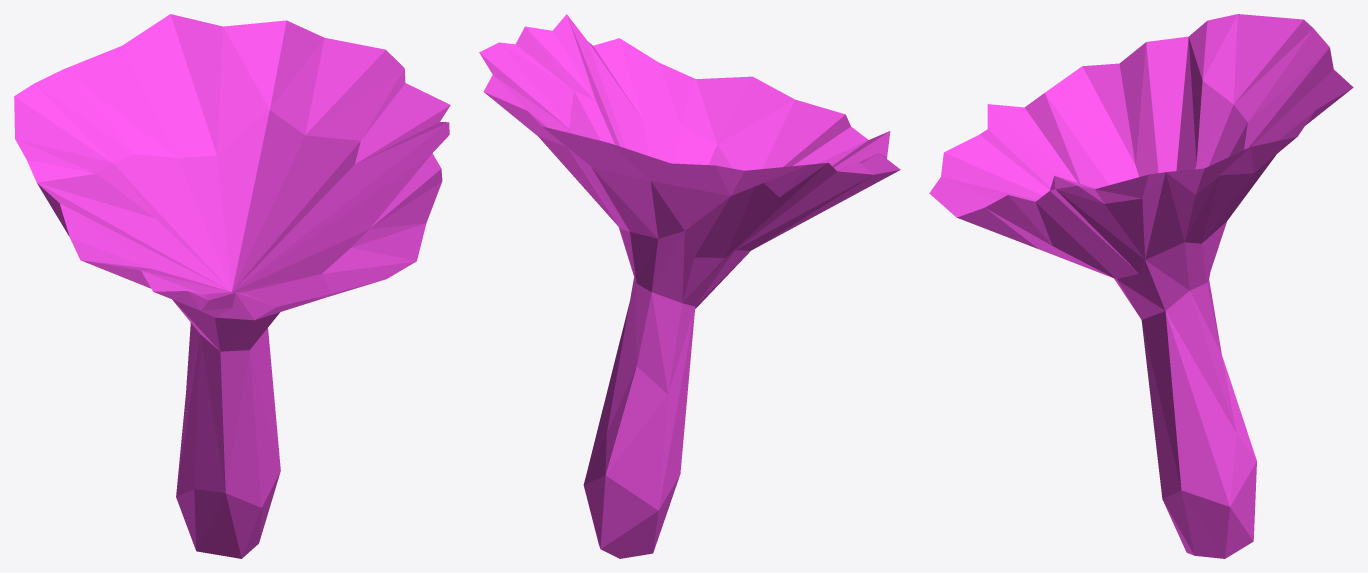
File: SM_Mushroom_Trumpet_Medium_B_Fantasy.fbx
3 views of the same model, side by side, from view 1: azimuth 30°, elevation 25°; view 2: azimuth 150°, elevation 25°; view 3: azimuth 270°, elevation 25° (orthographic).
Parts seen in each view (by area): view 1: SM_Mushroom_Trumpet_Medium_B_Fantasy; view 2: SM_Mushroom_Trumpet_Medium_B_Fantasy; view 3: SM_Mushroom_Trumpet_Medium_B_Fantasy.
Part boxes in pixels (<box>): SM_Mushroom_Trumpet_Medium_B_Fantasy: <box>14,14,450,558</box>; SM_Mushroom_Trumpet_Medium_B_Fantasy: <box>479,14,900,558</box>; SM_Mushroom_Trumpet_Medium_B_Fantasy: <box>929,14,1353,558</box>.
Bounding box in the file's own units: 0.4591 × 0.5629 × 0.4553.
